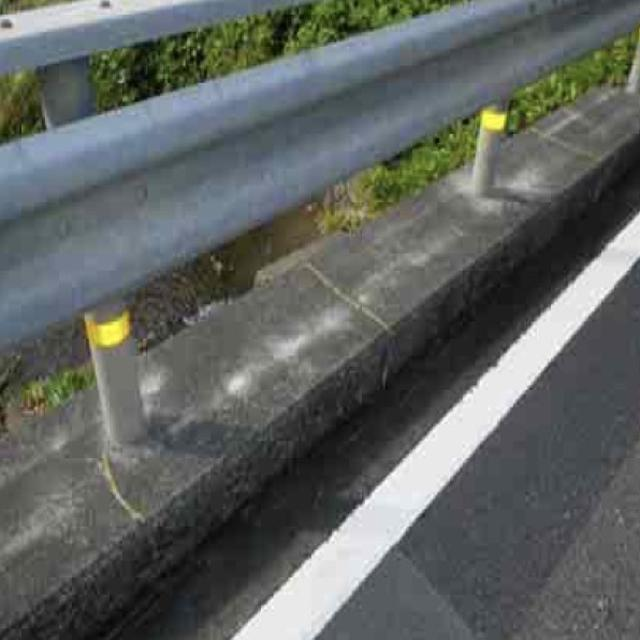freelime: (217, 287, 379, 412)
